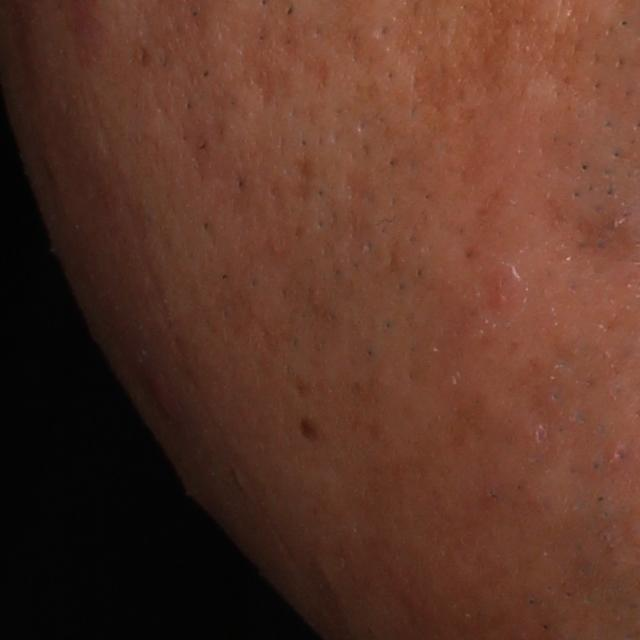nevus: (293, 413, 317, 435)
papule: (146, 377, 192, 432)
